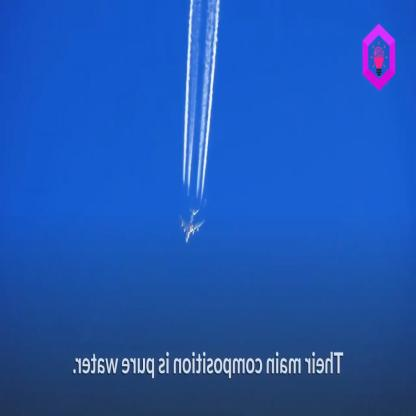plane: (172, 196, 210, 251)
